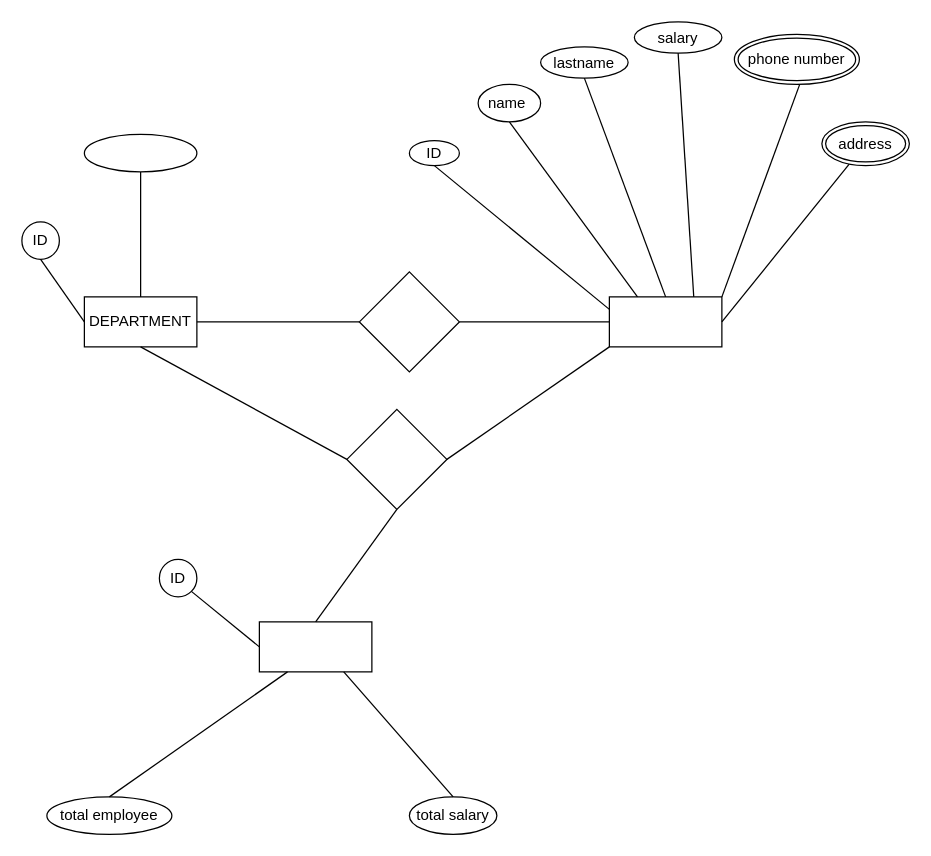
Some shapes in this 931 by 856 pixel diagram are drawn without their labels. Each missing label, with the centre of its shape:
"COMPANY" goes at point (315, 646).
"EMPLOYEE" goes at point (665, 321).
"Move to date" goes at point (140, 152).
"WANT TO KNOW" goes at point (396, 458).
"WORK IN" goes at point (408, 321).
